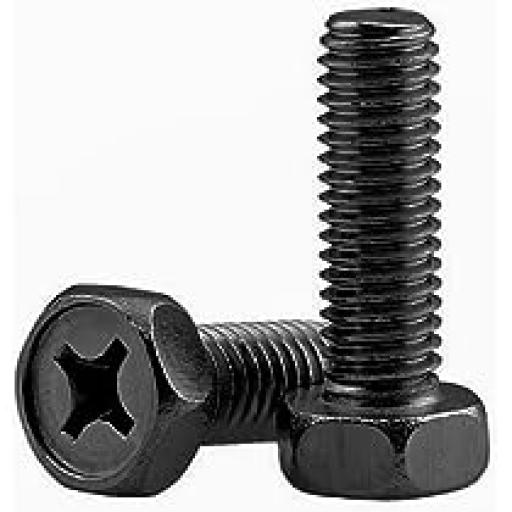Phillips: (16, 281, 210, 496)
